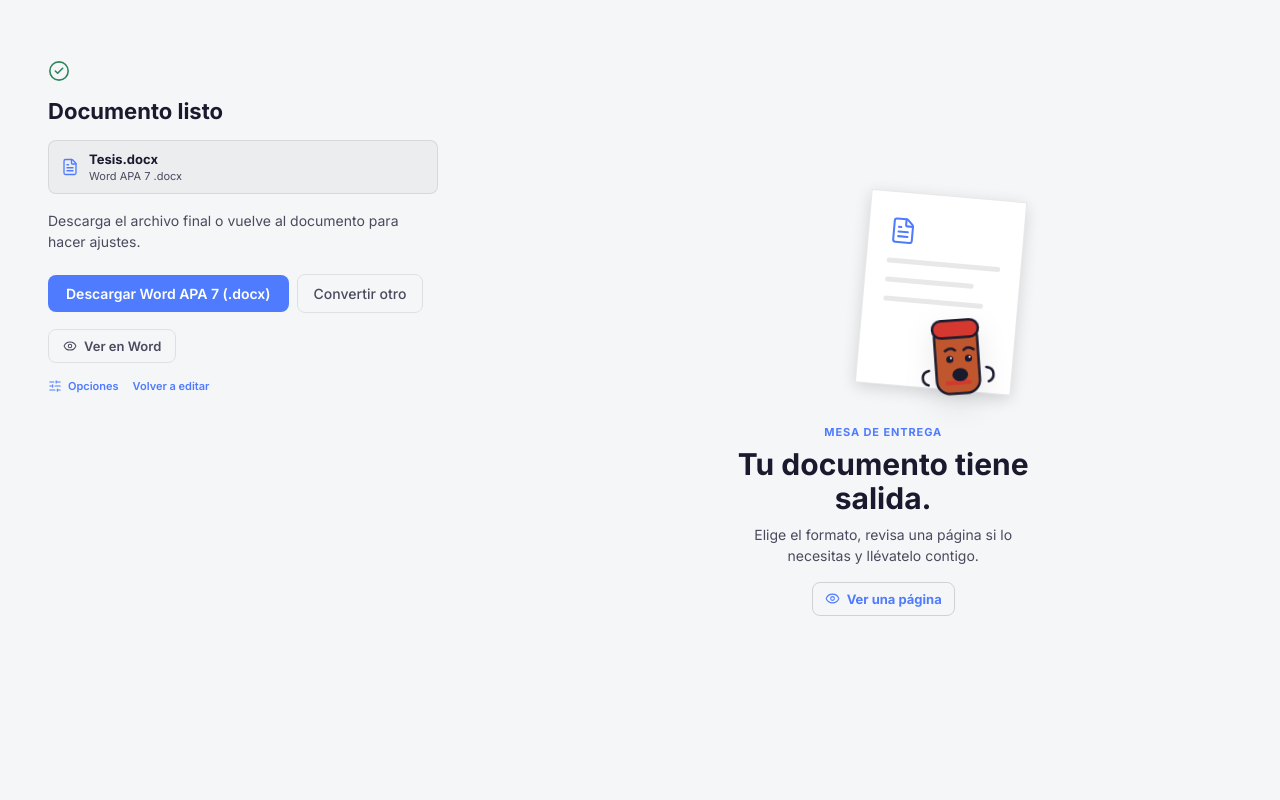
Test: el formato dice su extension en el boton de elegir › cada formato nombra su extension donde se elige
This screenshot has width=1280, height=800.
Step 1. Click the button "Opciones" → (83, 386), box [48,379,119,393]
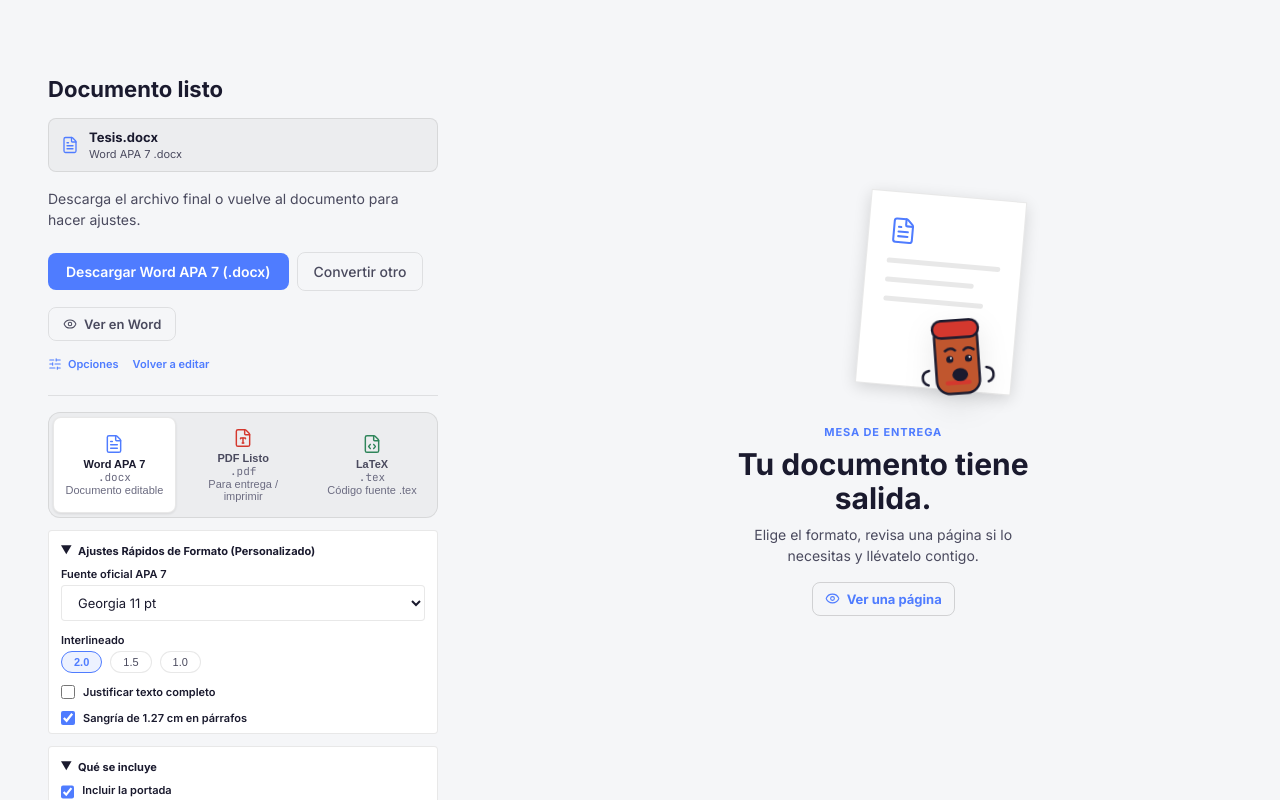
Now the button "Word APA 7 .docx Documento editable" is shown, box [53,417,176,513]
Now the button "PDF Listo .pdf Para entrega / imprimir" is shown, box [182,417,305,513]
Now the button "LaTeX .tex Código fuente .tex" is shown, box [311,417,433,513]
